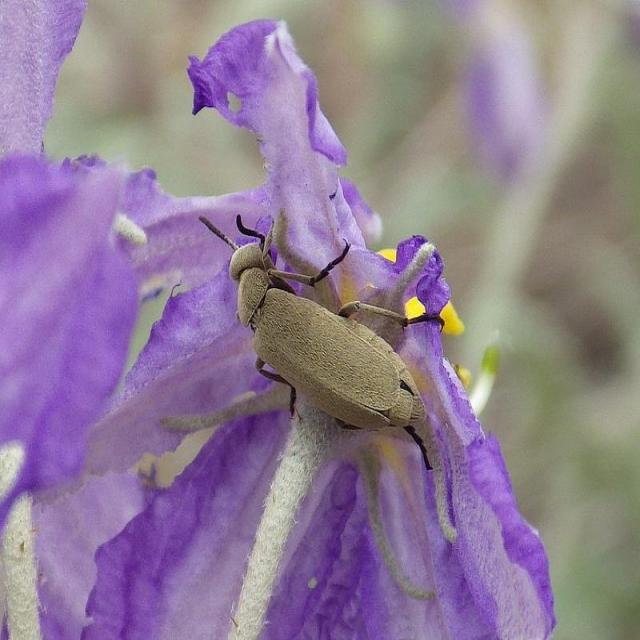BlisterBeetle-Adult-: (183, 201, 439, 470)
